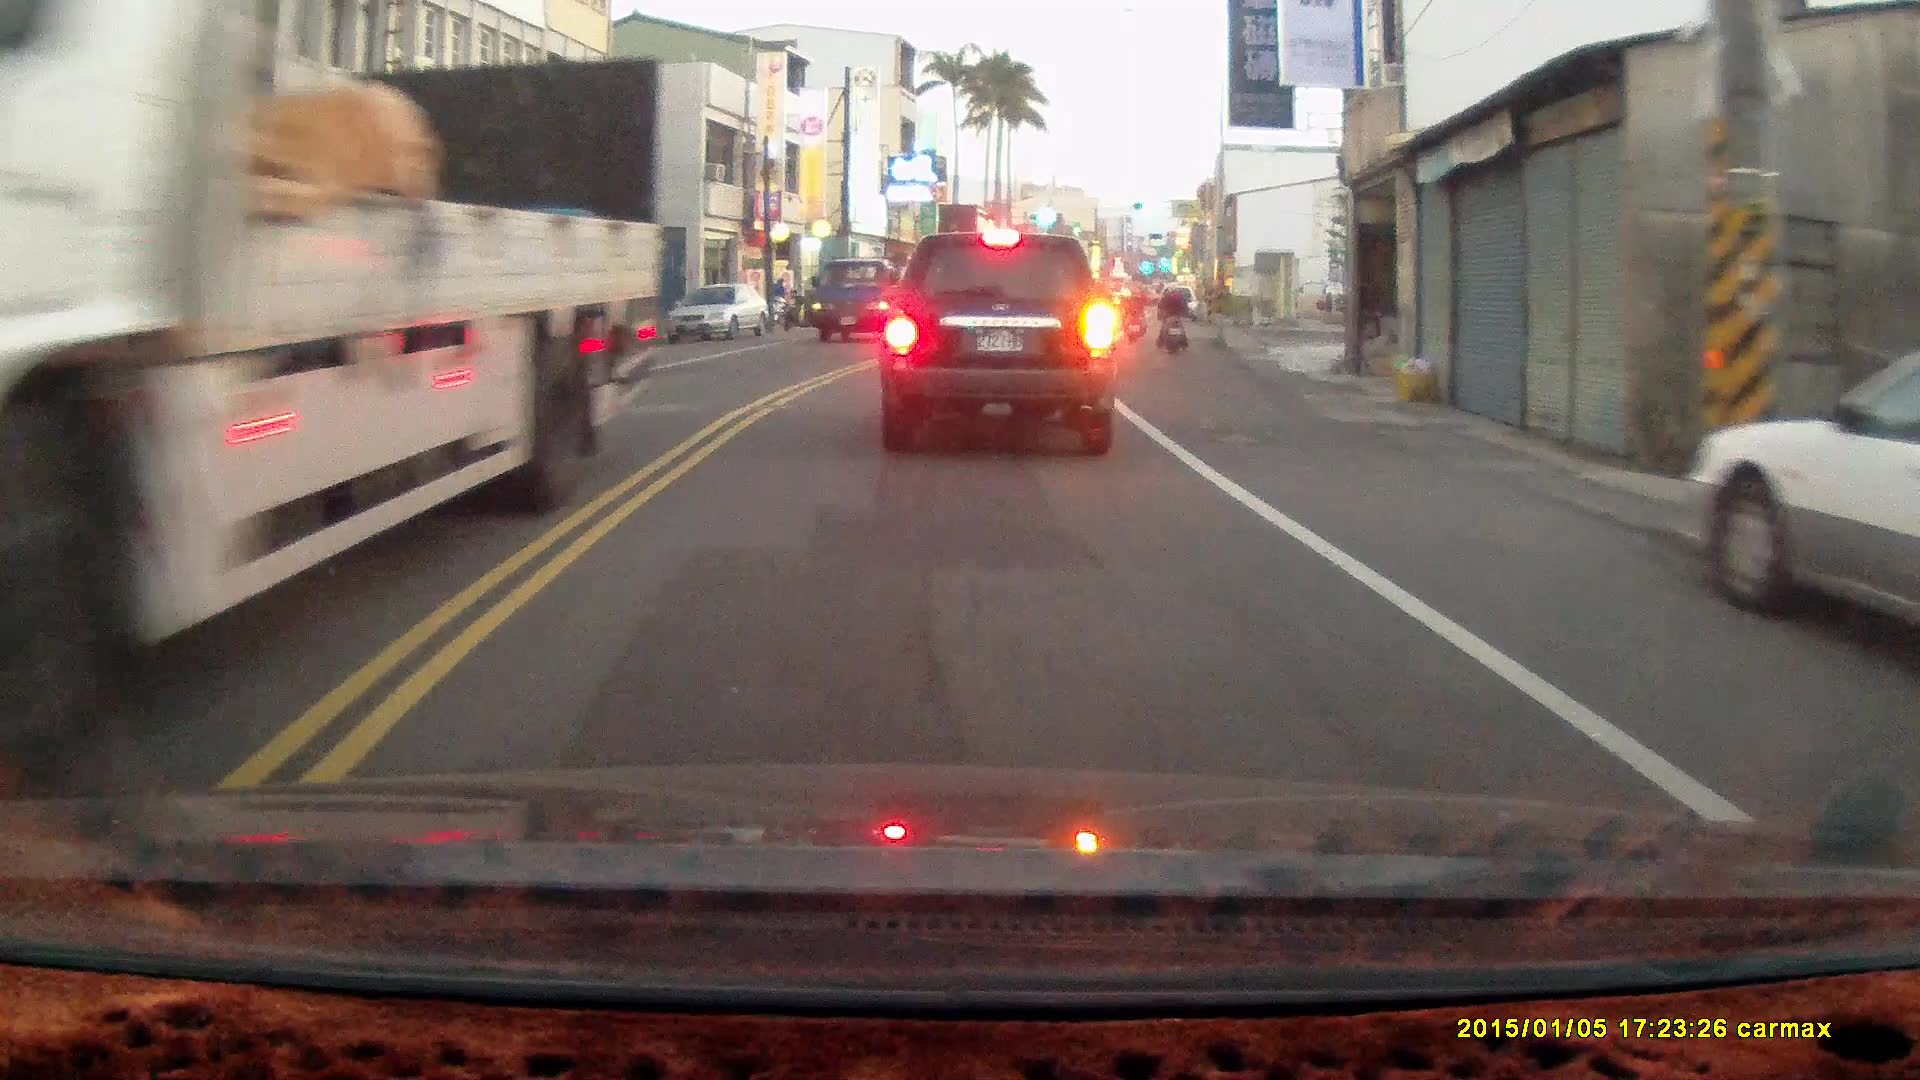rider: (1155, 279, 1186, 359), (1120, 284, 1146, 345)
vehicle: (3, 0, 646, 743), (1685, 360, 1920, 641), (877, 232, 1122, 460), (808, 256, 924, 346), (666, 283, 769, 343)
